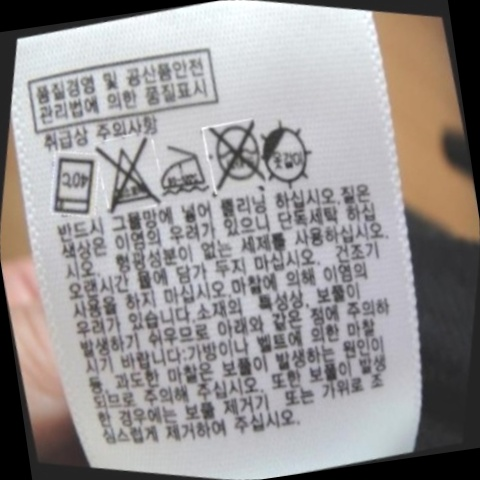40C: (36, 144, 109, 228)
DN_dry_clean: (199, 105, 272, 198)
iron_low: (149, 135, 217, 207)
line_dry_in_shade: (251, 110, 327, 196)
non_chlorine_bleach: (85, 122, 172, 223)
